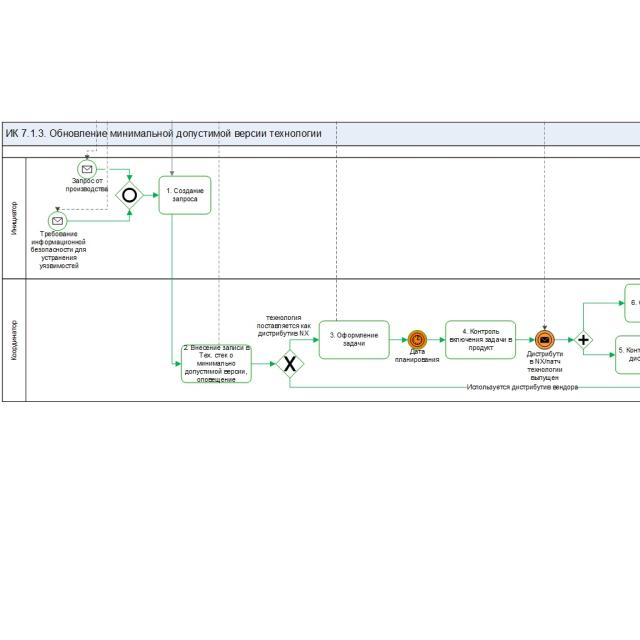arrow: (169, 215, 181, 368), (582, 300, 624, 331), (68, 209, 132, 224), (97, 166, 133, 182), (288, 336, 319, 350), (582, 350, 615, 359), (252, 360, 276, 367), (554, 336, 574, 344), (516, 336, 535, 344), (428, 336, 446, 344), (390, 336, 407, 344), (144, 191, 159, 199)
circle: (47, 211, 68, 231), (77, 159, 97, 179), (408, 330, 428, 350), (535, 330, 554, 349)
diamond: (116, 181, 143, 209), (277, 350, 303, 377), (575, 332, 592, 349)
rectangle: (181, 344, 251, 383), (445, 321, 516, 359), (319, 321, 389, 359), (159, 176, 211, 214)
text_region: (30, 230, 86, 270), (526, 350, 564, 382), (256, 315, 311, 336), (64, 177, 109, 194), (466, 384, 578, 390), (394, 349, 440, 363)
